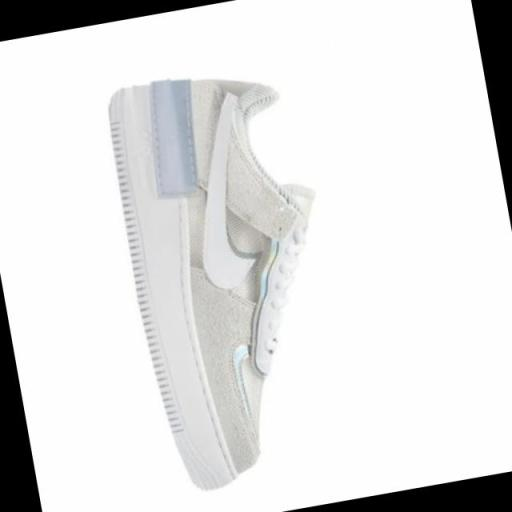Nike: (164, 86, 278, 304)
